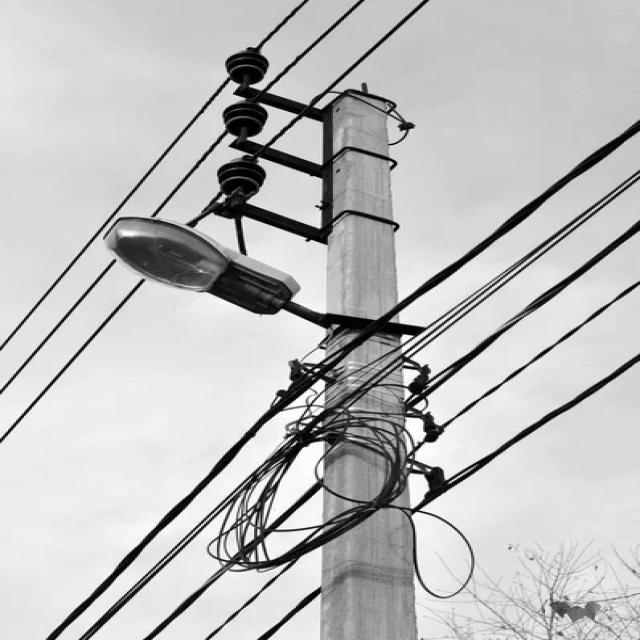Pole: (315, 90, 426, 640)
